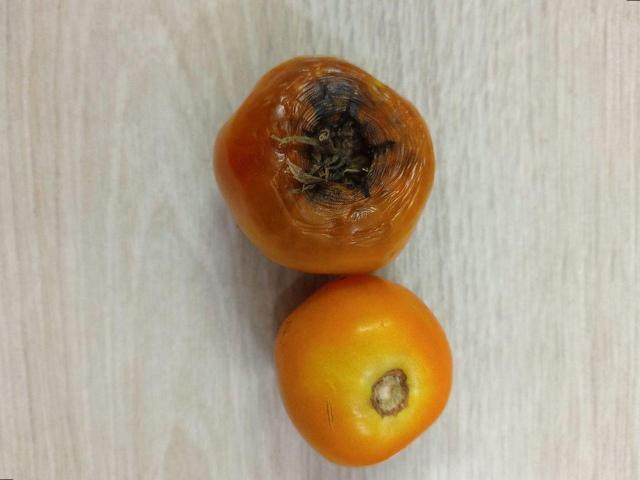defect: (209, 51, 441, 275)
